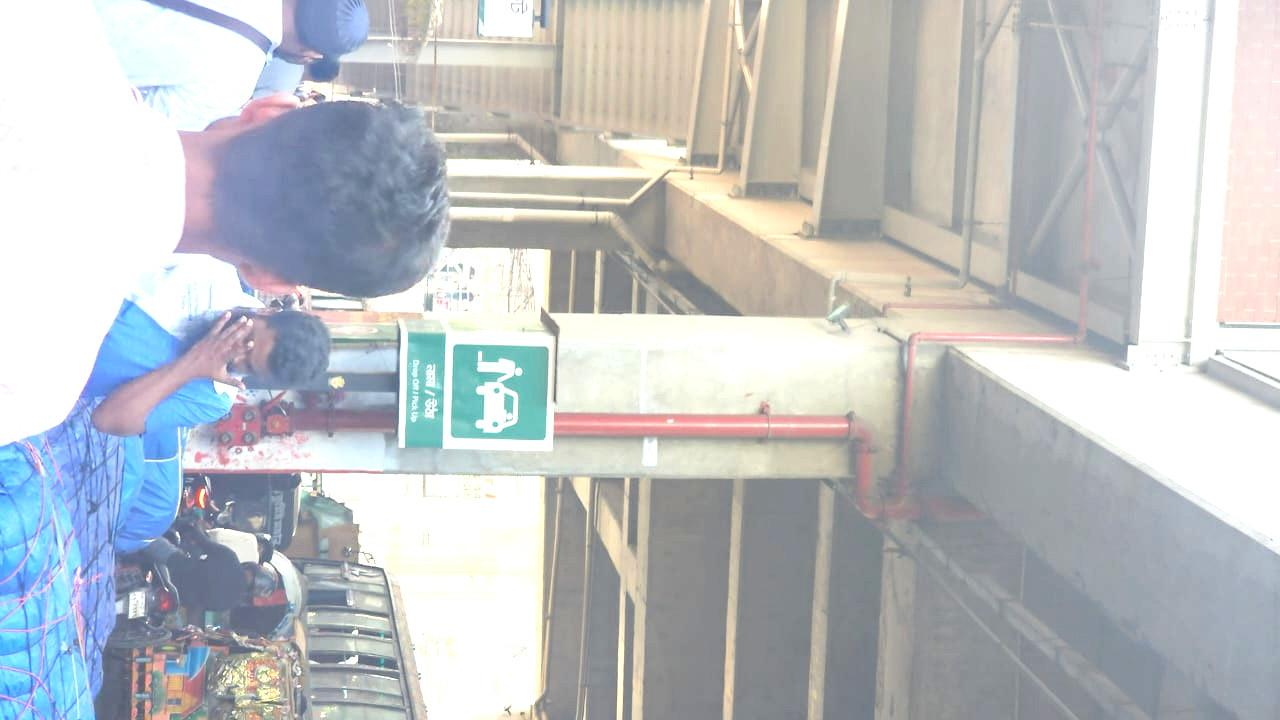Metro Dorp Up Pick up: (387, 311, 567, 459)
